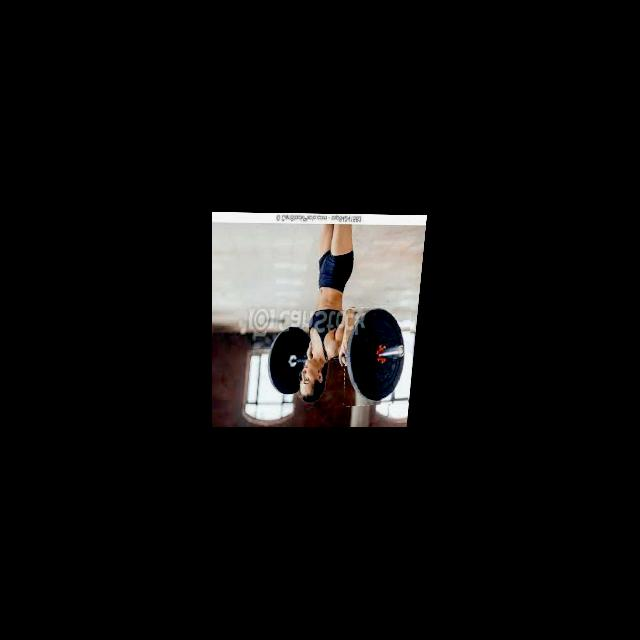barbell: (343, 305, 417, 405)
